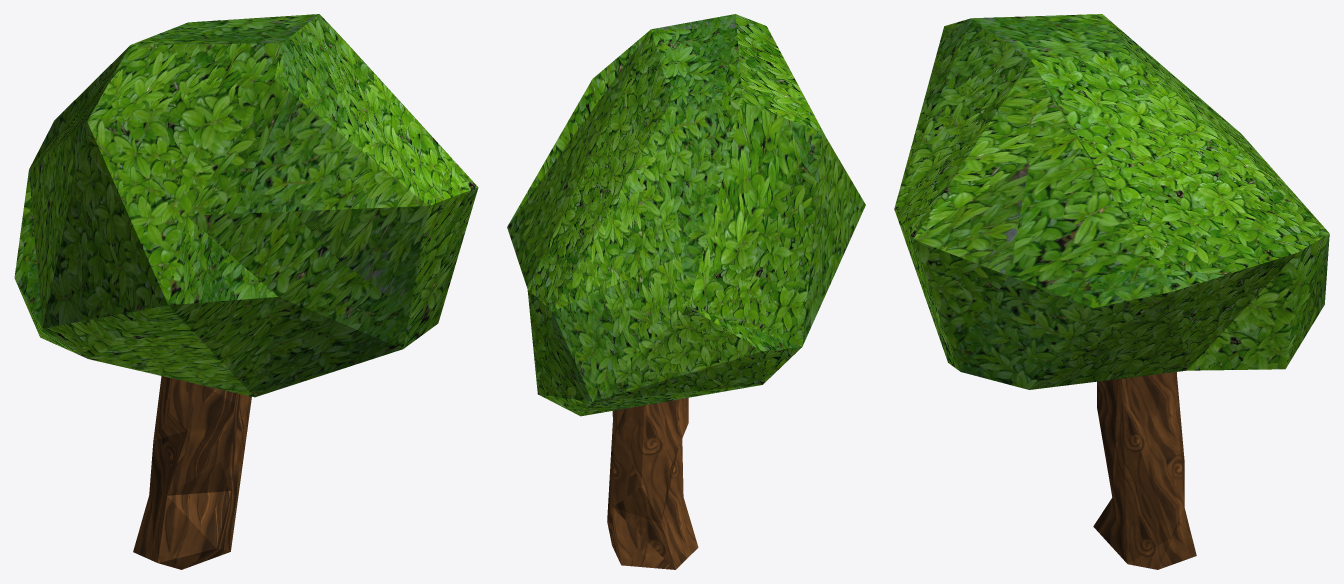
File: Tree02.fbx
3 views of the same model, side by side, from view 1: azimuth 30°, elevation 25°; view 2: azimuth 150°, elevation 25°; view 3: azimuth 270°, elevation 25° (orthographic). The views are drawn at different scales.
Visible parts, largest first — view 1: Tree02; view 2: Tree02; view 3: Tree02.
Part boxes in pixels (bbox=[...]): Tree02: bbox=[14, 14, 478, 569]; Tree02: bbox=[507, 14, 865, 569]; Tree02: bbox=[894, 14, 1329, 569].
Bounding box in the file's own units: 360 × 576 × 427.
2 materials, 2 textured.
